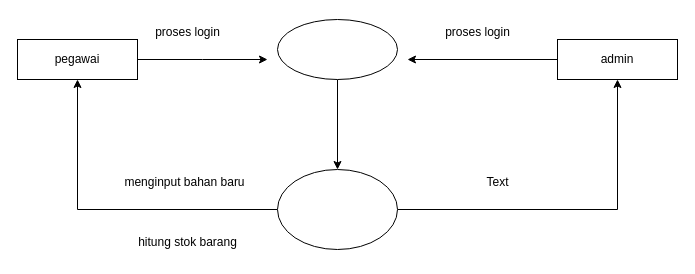
The diagram is 695 pixels wide and 274 high, and some of its shapes have lost their labels. Each missing label, with the centre of its shape:
"login" goes at point 337,49.
"penyimpanan & perhitungan" goes at point 337,209.
